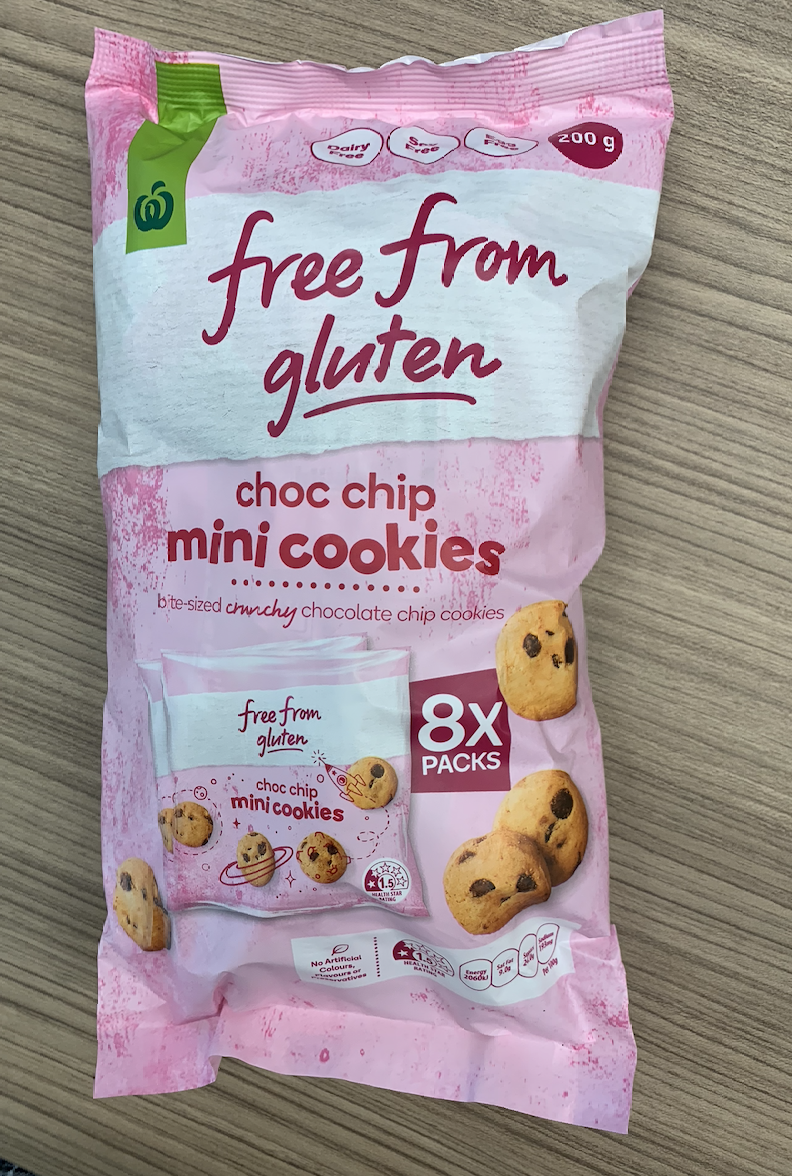cookies_200g-299g: (121, 81, 621, 1084)
